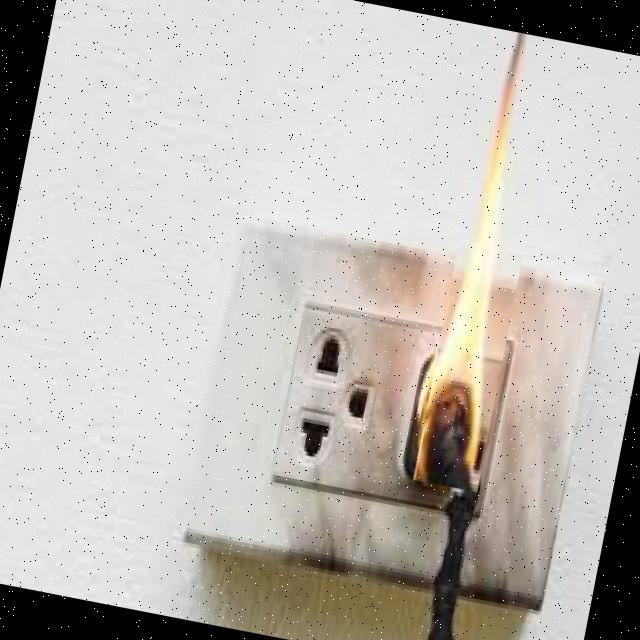fire: (413, 40, 562, 495)
